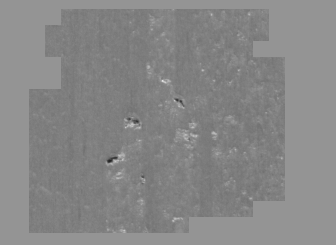oxl: (35, 10, 301, 235)
